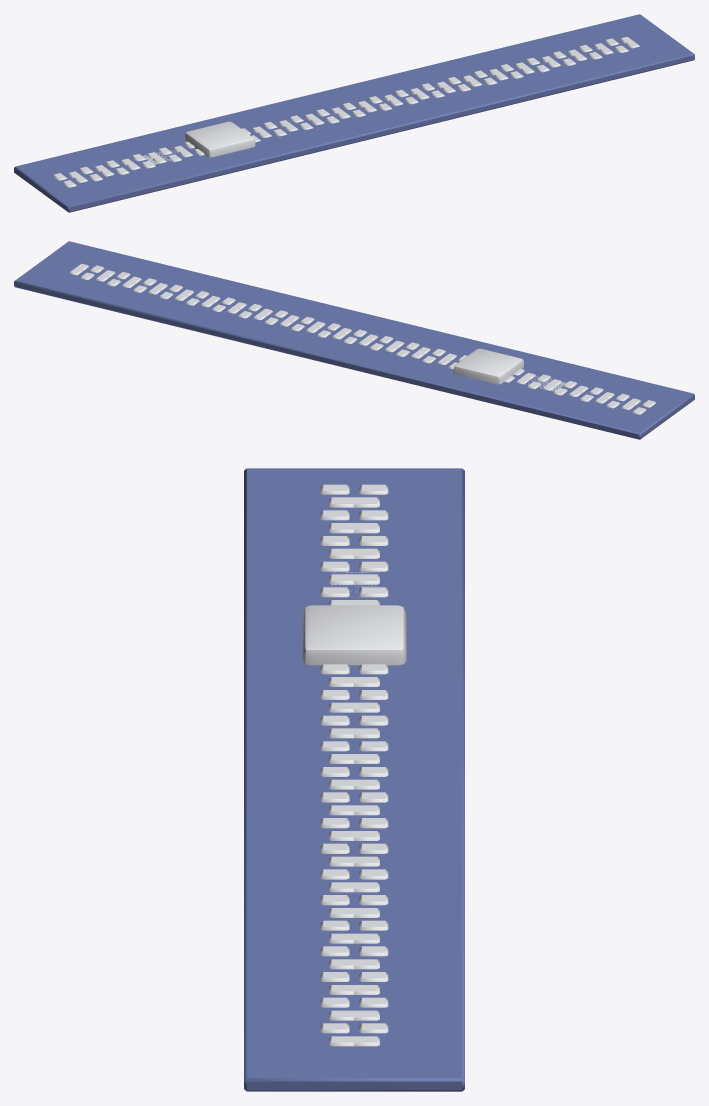
The model's file is zipper.glb.
3 renders of one model, top to bottom at view 1: azimuth 30°, elevation 25°; view 2: azimuth 150°, elevation 25°; view 3: azimuth 270°, elevation 25°, orthographic. The views are drawn at different scales.
Visible parts, largest first — view 1: zipper; view 2: zipper; view 3: zipper.
Boxes of the visible parts, left/top/right/bottom form: zipper: left=14, top=14, right=694, bottom=212; zipper: left=14, top=241, right=694, bottom=439; zipper: left=244, top=468, right=464, bottom=1091.
Size of the model in its own units: 0.21 by 0.0075 by 0.032.
